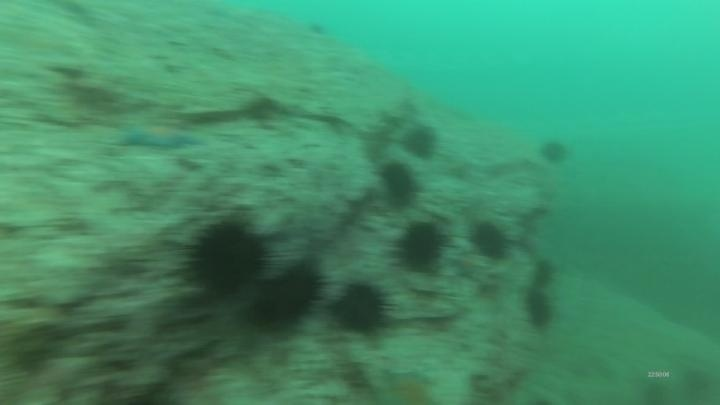echinus: (182, 216, 274, 300), (245, 259, 327, 335), (328, 277, 396, 339), (391, 218, 451, 276), (377, 159, 421, 209), (467, 217, 513, 263), (521, 286, 558, 333), (400, 122, 440, 162), (537, 136, 572, 169), (528, 256, 559, 291)
starfish: (115, 120, 207, 153), (373, 365, 440, 405), (448, 250, 490, 282)
